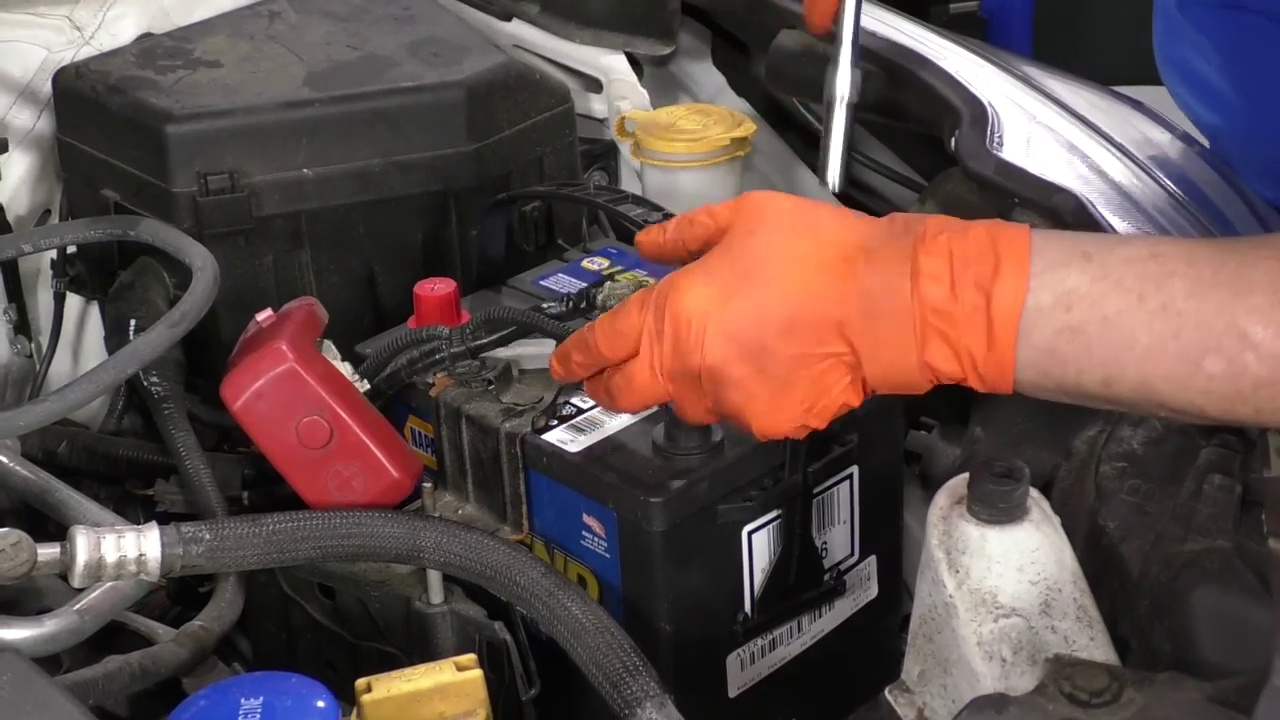battery: (361, 234, 779, 513)
